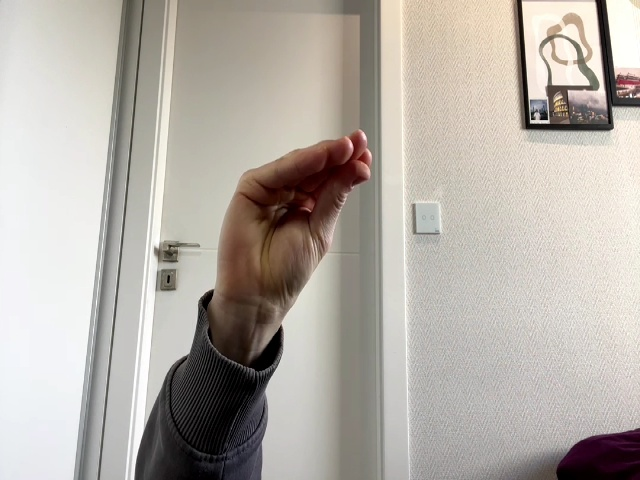E: (218, 130, 373, 295)
